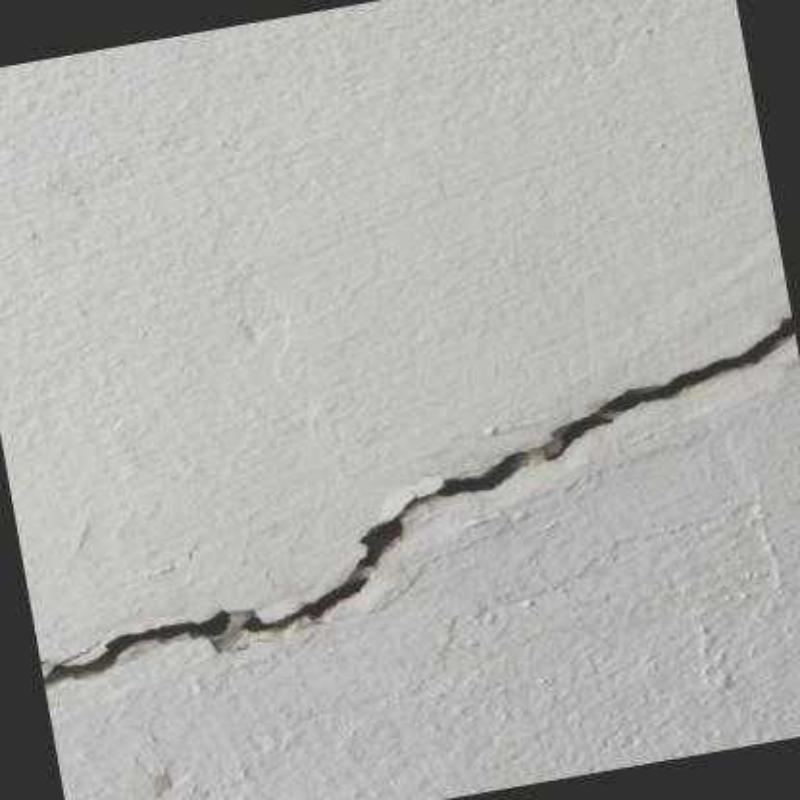pothole: (39, 302, 796, 697)
